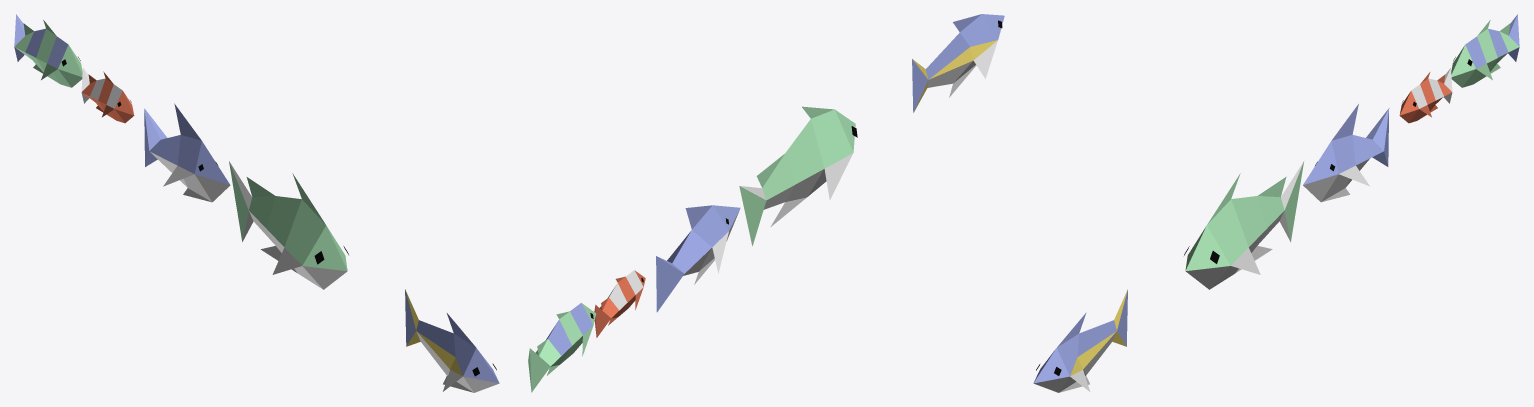
File: Fishes.fbx
3 renders of one model, left to right at view 1: azimuth 30°, elevation 25°; view 2: azimuth 150°, elevation 25°; view 3: azimuth 330°, elevation 25°, orthographic. The views are drawn at different scales.
Visible parts, largest first — view 1: GreenFish, BlueFish, YellowFish, GreenBlueFish, OrangeFish; view 2: GreenFish, YellowFish, BlueFish, GreenBlueFish, OrangeFish; view 3: GreenFish, BlueFish, YellowFish, GreenBlueFish, OrangeFish.
Boxes of the visible parts, bbox=[...] form: GreenFish: bbox=[229, 161, 348, 289]; BlueFish: bbox=[144, 103, 230, 202]; YellowFish: bbox=[405, 289, 499, 392]; GreenBlueFish: bbox=[14, 14, 82, 87]; OrangeFish: bbox=[81, 68, 134, 123]; GreenFish: bbox=[739, 106, 857, 246]; YellowFish: bbox=[912, 14, 1004, 112]; BlueFish: bbox=[656, 205, 740, 312]; GreenBlueFish: bbox=[528, 302, 595, 392]; OrangeFish: bbox=[594, 270, 645, 337]; GreenFish: bbox=[1184, 161, 1303, 289]; BlueFish: bbox=[1303, 104, 1389, 202]; YellowFish: bbox=[1033, 289, 1127, 392]; GreenBlueFish: bbox=[1451, 14, 1519, 87]; OrangeFish: bbox=[1399, 68, 1452, 123].
Size of the model in its own units: 0.3909 by 0.8118 by 6.68.
